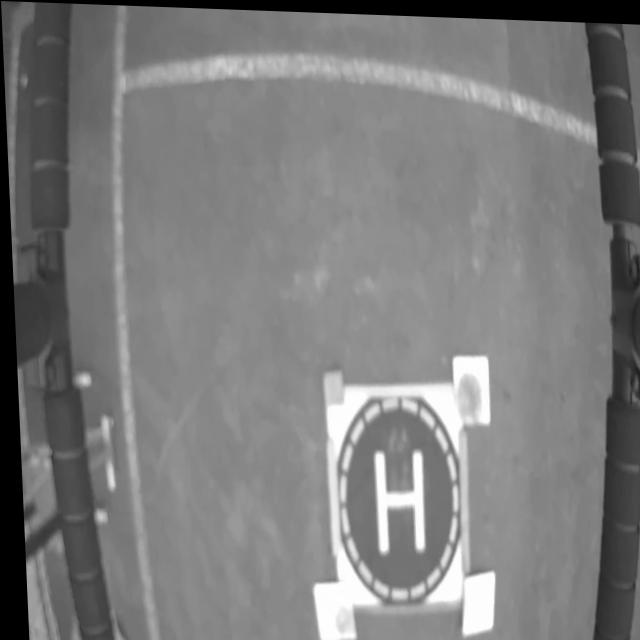Helipad: (368, 443, 420, 552)
